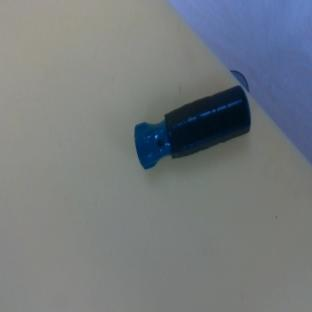part_2_bad: (127, 84, 259, 172)
